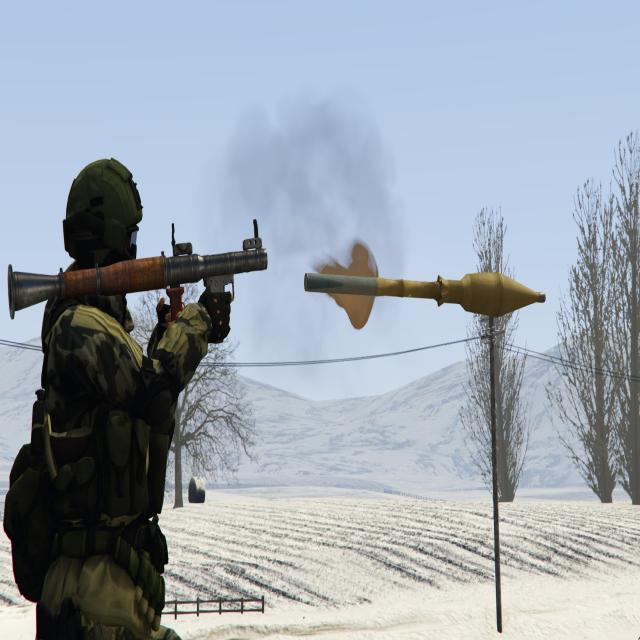bazooka: (309, 228, 579, 365), (15, 213, 292, 326)
